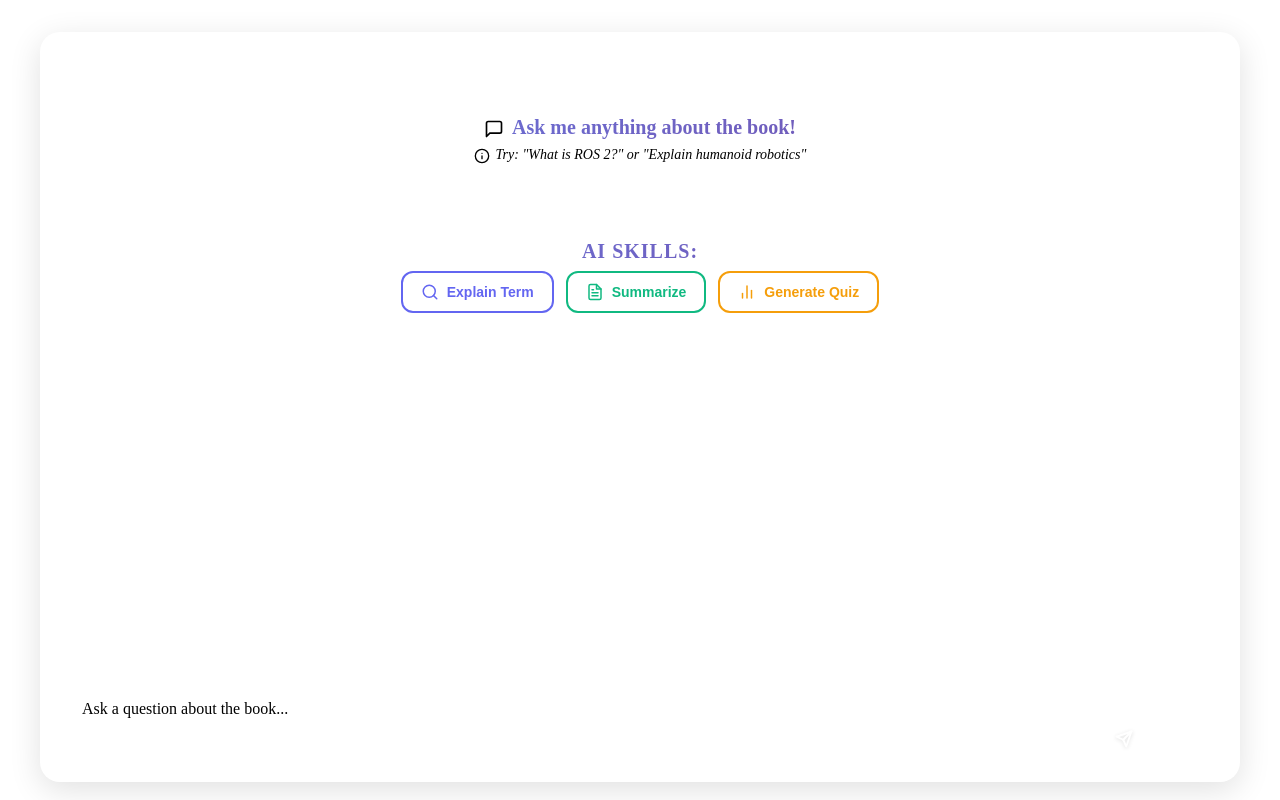
Test case: Chatbot Component › Response Handling › displays sources when included in response
The width and height of the screenshot is (1280, 800).
Type "Test" into the text box with placeholder "Ask a question about the book..." at (568, 722), box [64,682,1073,762]
Then press Enter
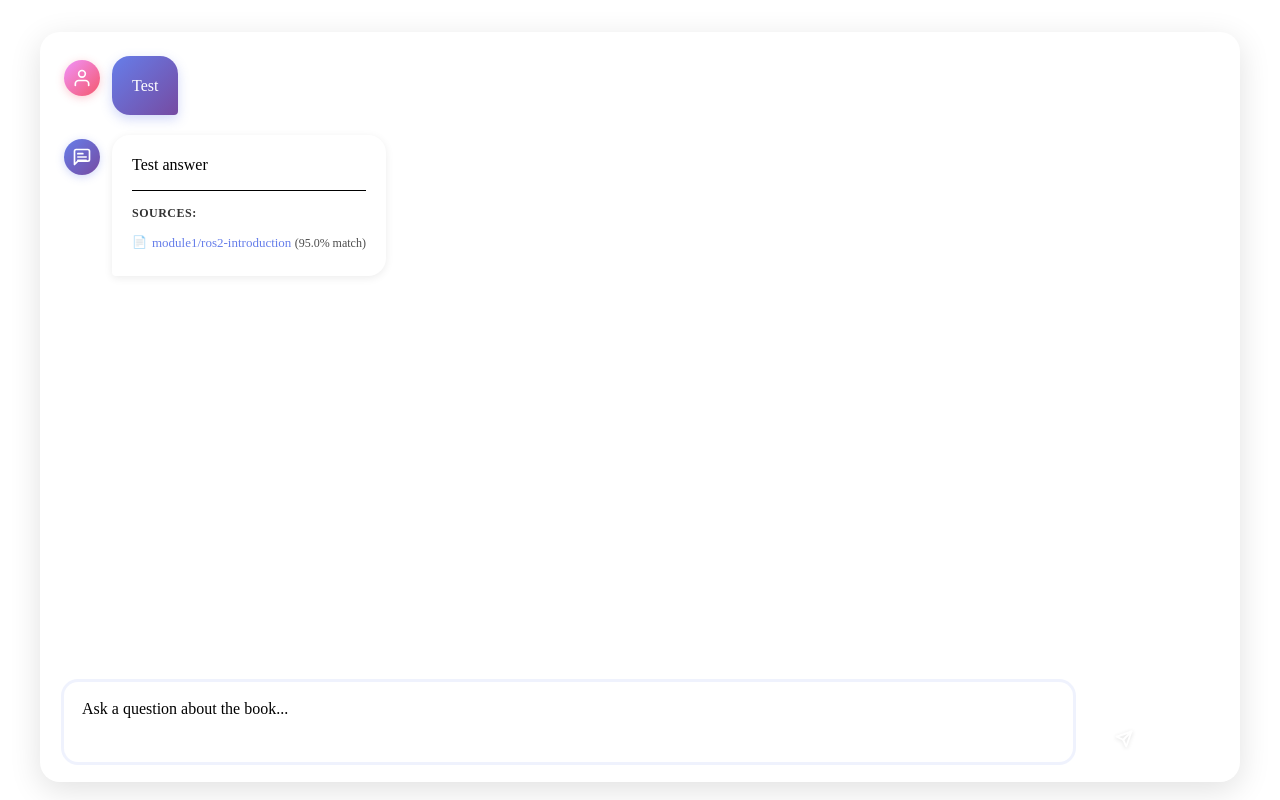
Result: the text "Sources:" is shown at [132,206,197,220]
